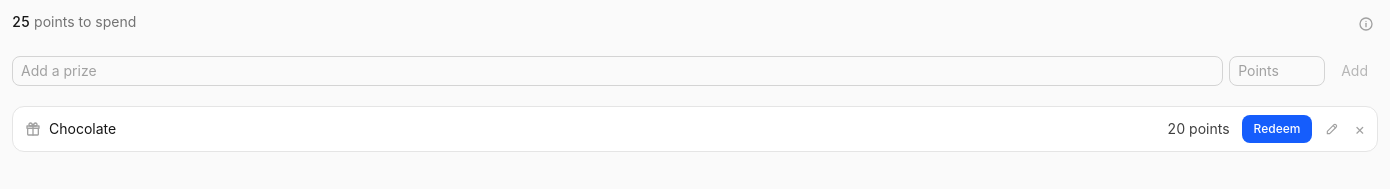
Scenario: keeping a list (RWD-33, RWD-34) › says so when a name is taken already
The image size is (1390, 189).
In the field named "Name of the new prize": (618, 71) [12, 56, 1223, 86], type "Chocolate"
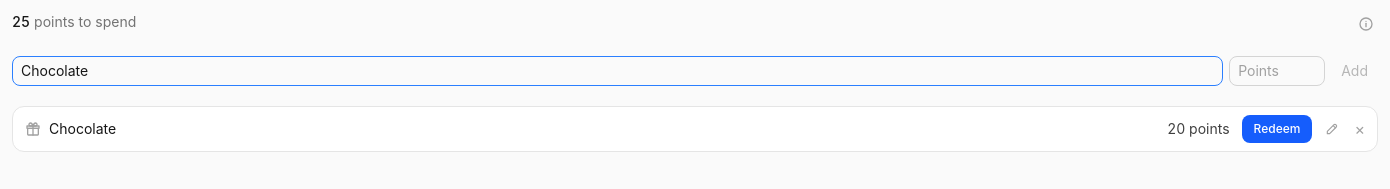
In the number field named "Points the new prize costs": (1277, 71) [1229, 56, 1325, 86], type "20"
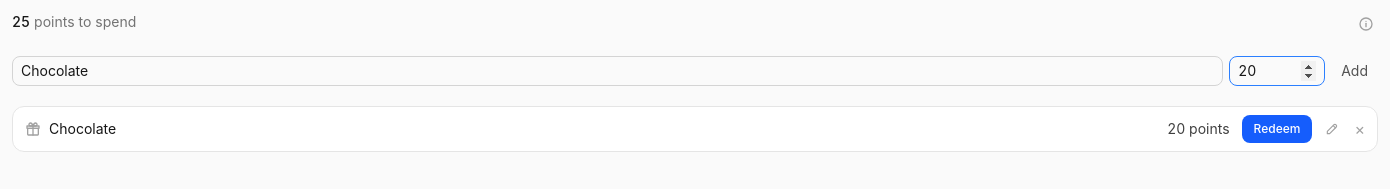
Click the button "Add": (1355, 71) [1331, 57, 1378, 85]
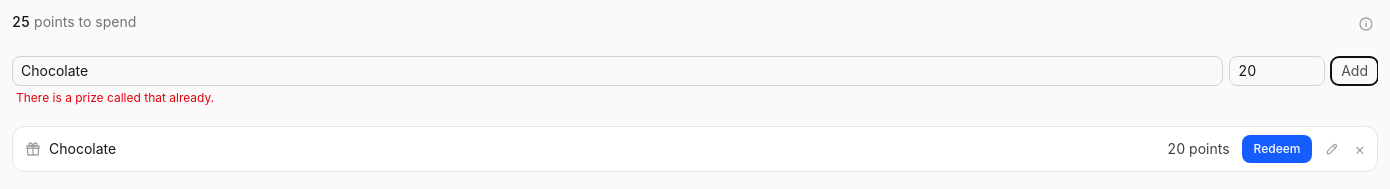
Check: the message reads "There is a prize called that already.", box [16, 90, 214, 105]
